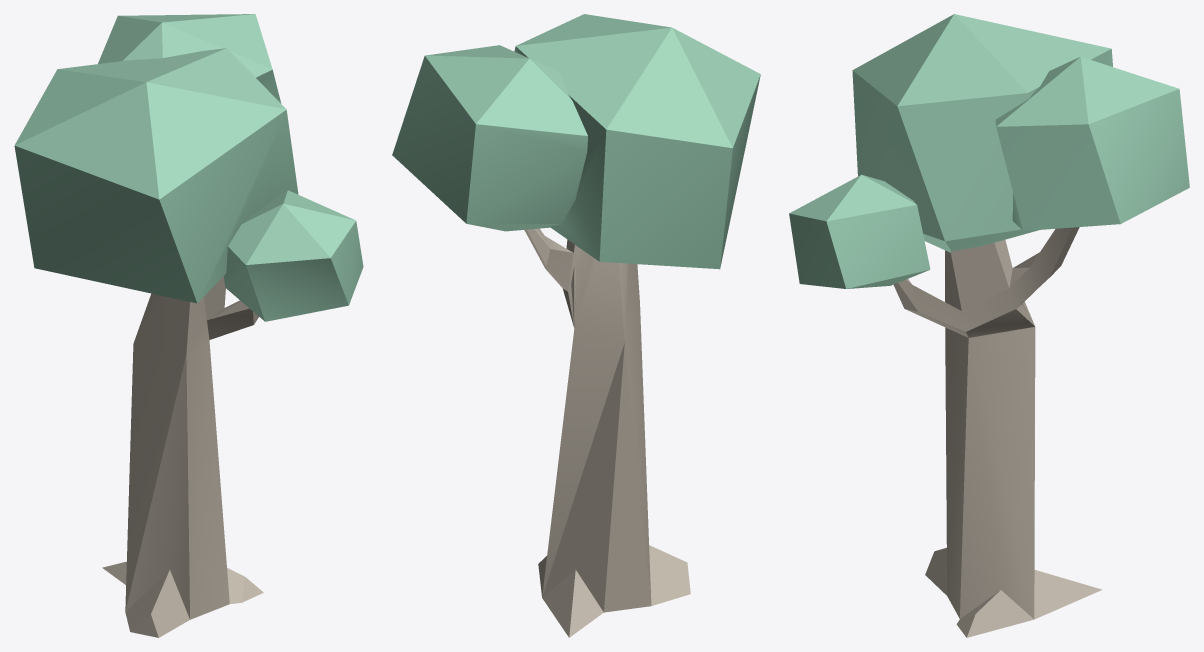
Rendered from Tree_Large.fbx.
3 renders of one model, left to right at view 1: azimuth 30°, elevation 25°; view 2: azimuth 150°, elevation 25°; view 3: azimuth 270°, elevation 25°, orthographic. The views are drawn at different scales.
Visible parts, largest first — view 1: Tree_Large2; view 2: Tree_Large2; view 3: Tree_Large2.
Boxes of the visible parts, x1,y1,x2,y2 form: Tree_Large2: [14, 14, 363, 637]; Tree_Large2: [392, 14, 760, 637]; Tree_Large2: [789, 14, 1189, 637].
Size of the model in its own units: 9.15 by 16.68 by 10.79.
